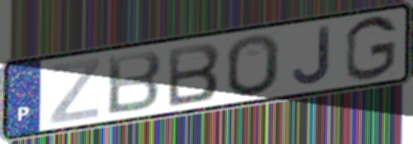B: (105, 48, 164, 118), (166, 40, 223, 109)
G: (343, 14, 399, 83)
J: (291, 24, 334, 87)
O: (224, 32, 282, 99)
Z: (47, 56, 102, 126)
